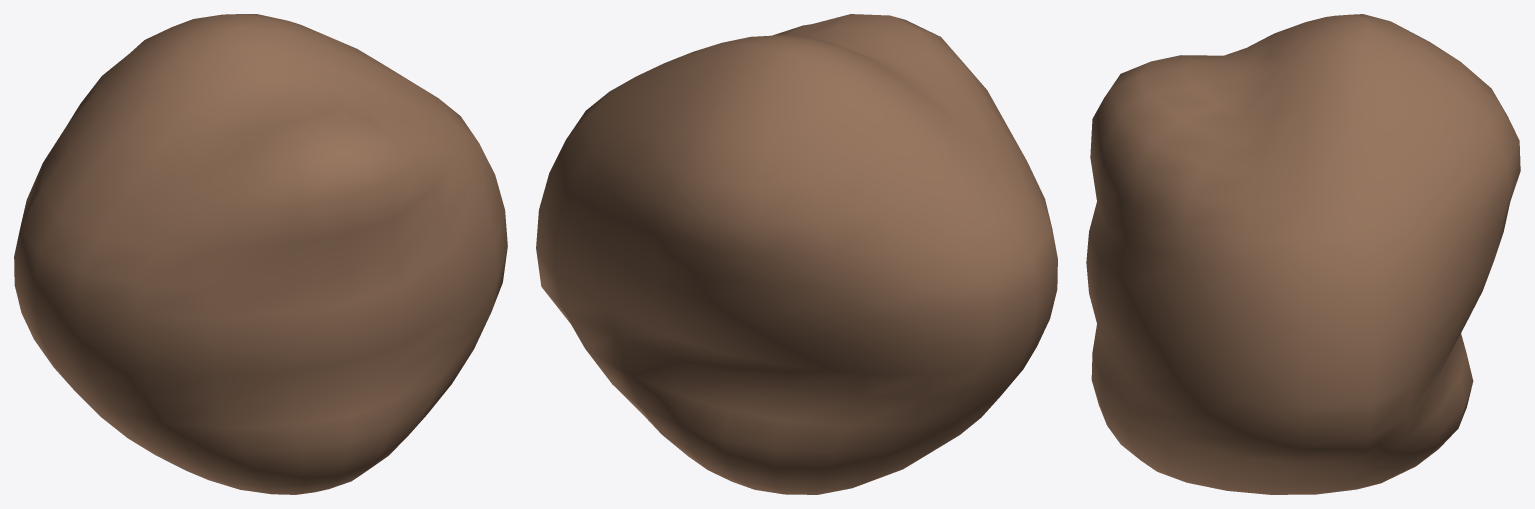
File: CrumbSmall.fbx
3 renders of one model, left to right at view 1: azimuth 30°, elevation 25°; view 2: azimuth 150°, elevation 25°; view 3: azimuth 270°, elevation 25°, orthographic. The views are drawn at different scales.
Visible parts, largest first — view 1: pSphere3; view 2: pSphere3; view 3: pSphere3.
Boxes of the visible parts, bbox=[...] form: pSphere3: bbox=[14, 14, 507, 494]; pSphere3: bbox=[536, 14, 1057, 494]; pSphere3: bbox=[1086, 14, 1520, 494].
Size of the model in its own units: 0.5133 by 0.4514 by 0.3976.
